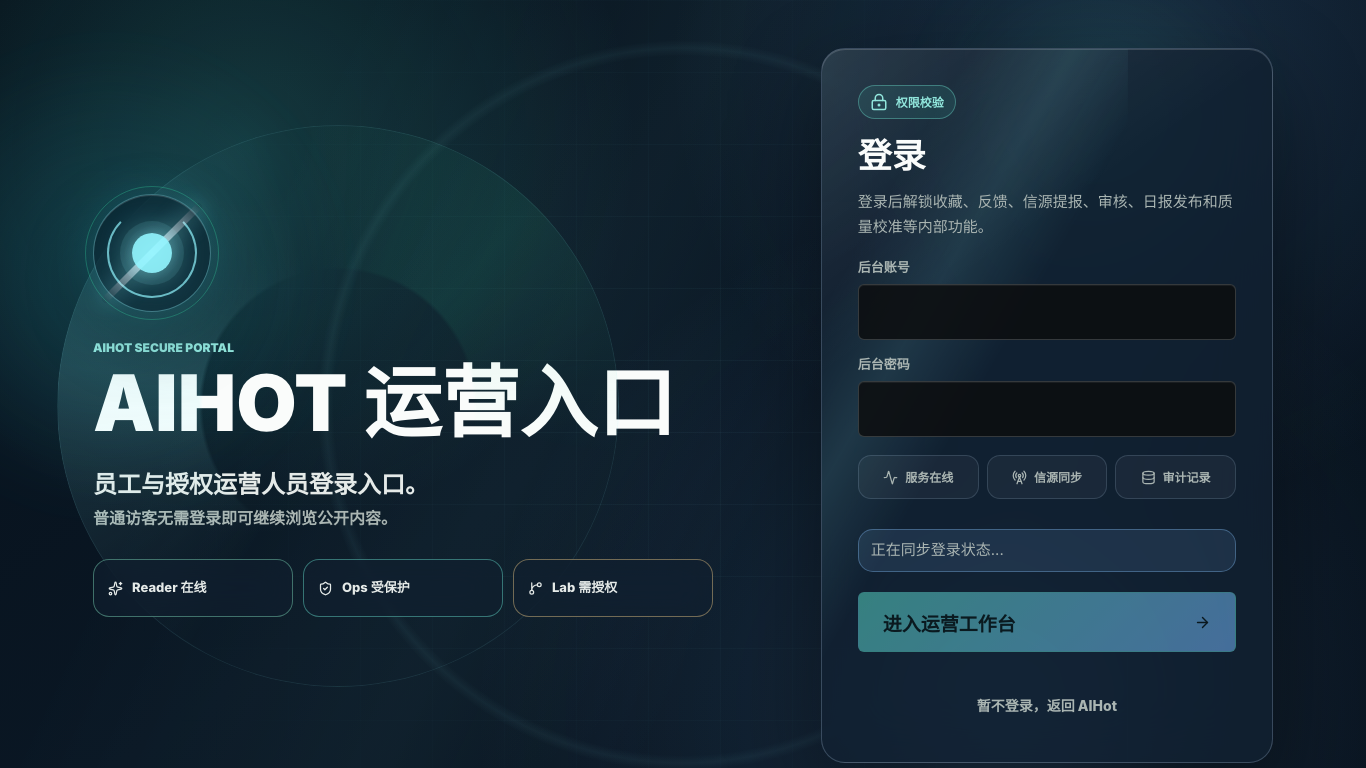
Test: 后台产品化界面 › shows a friendly 401 message on admin login failure
Check: the heading "AIHOT 运营入口" is shown, box 93,365 -> 675,441
Type "admin" into the field named "管理员账号" at (1047, 312), box 858,284 -> 1236,340
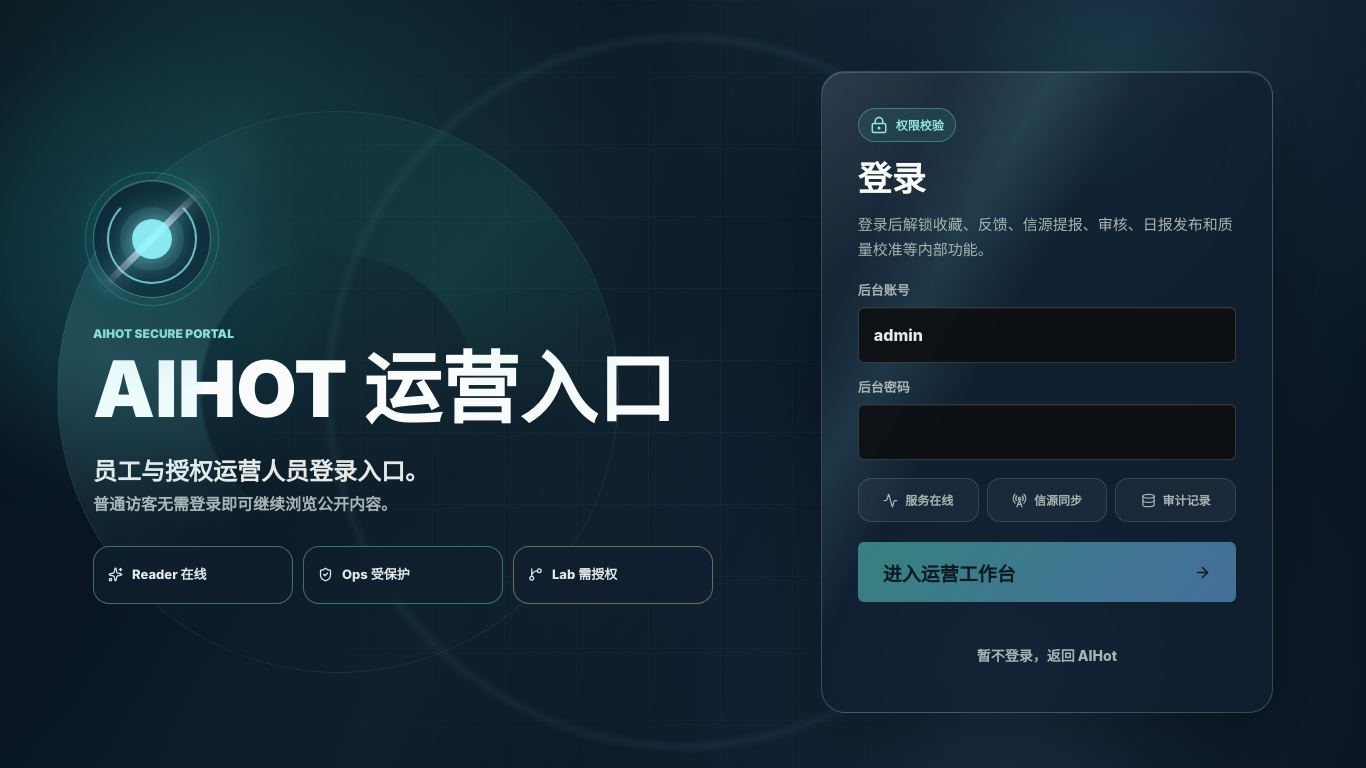
Type "wrong" into the password field named "管理员密码" at (1047, 432), box 858,404 -> 1236,460
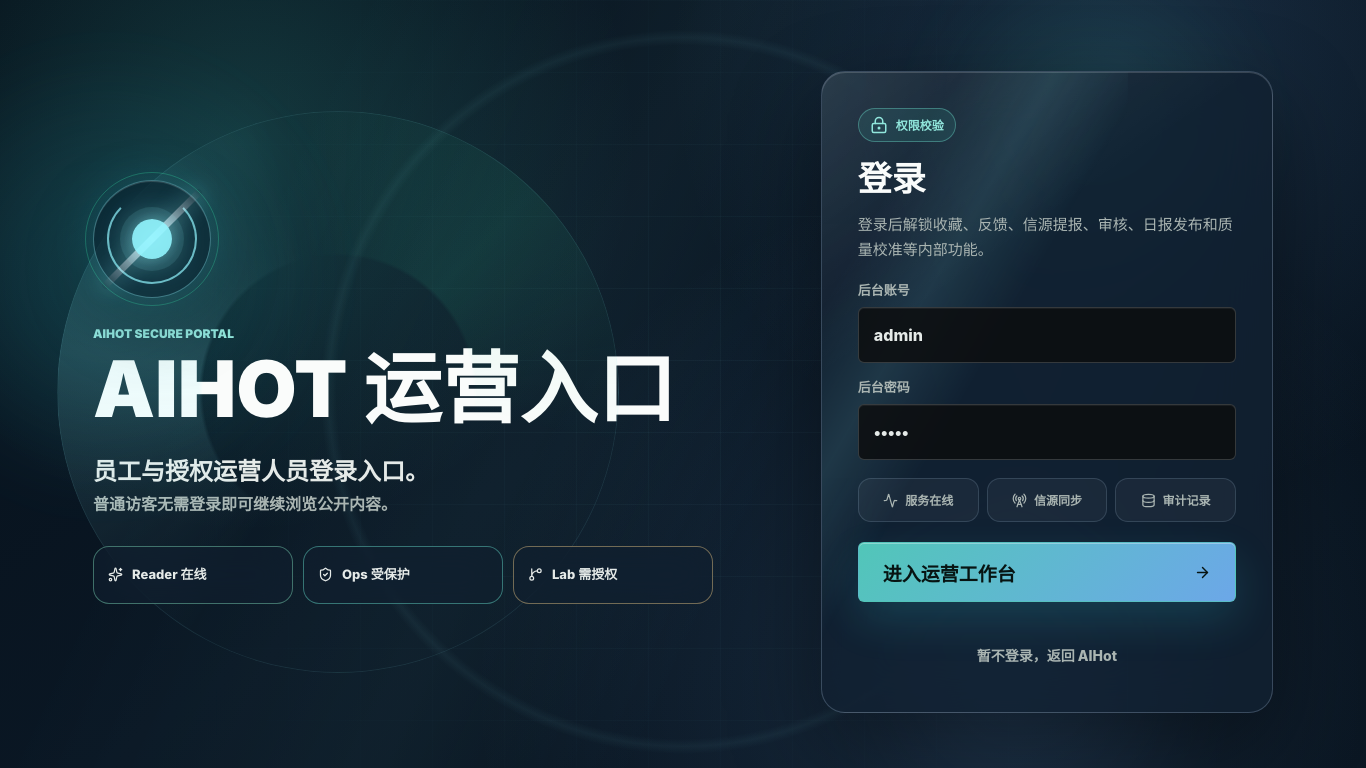
Click the button "进入运营工作台" at (949, 574), box 858,542 -> 1236,602
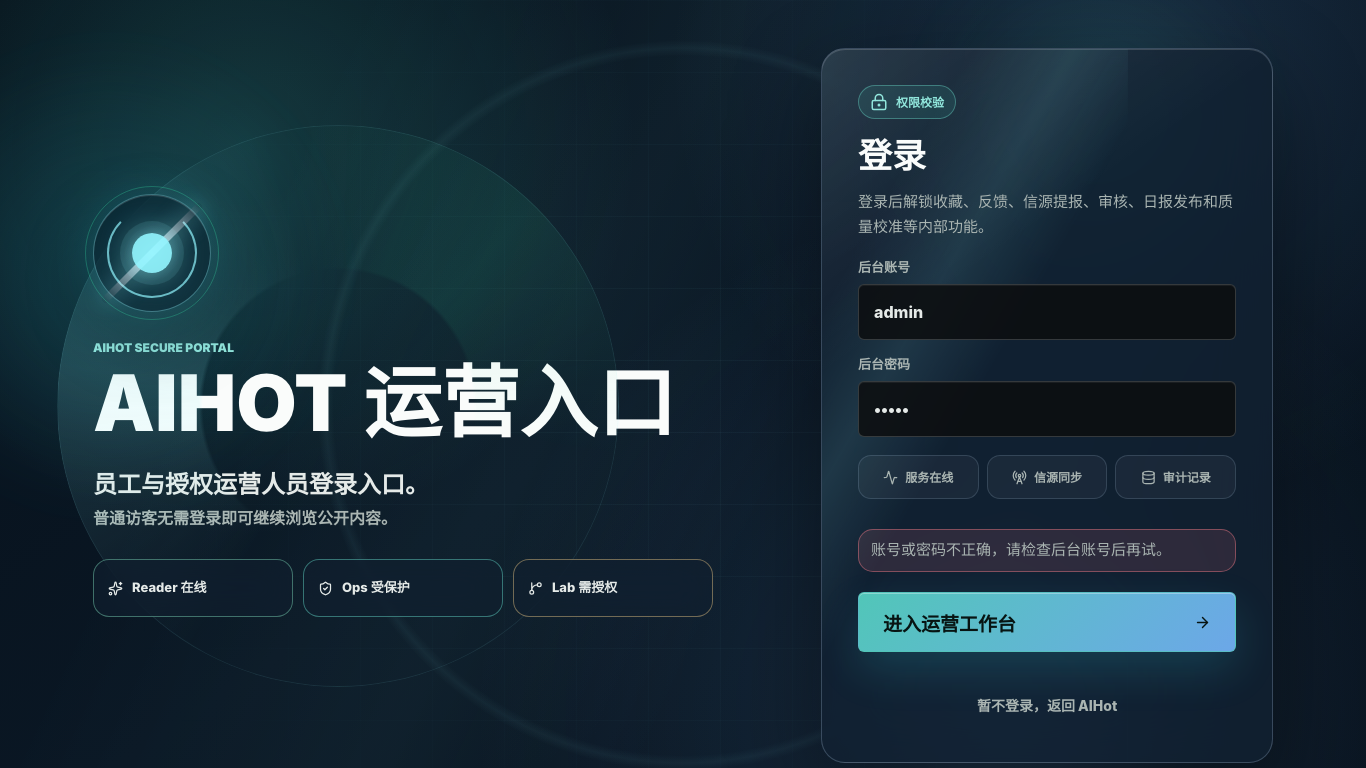
Check: the text "账号或密码不正确，请检查后台账号后再试。" is shown, box 858,529 -> 1236,572
